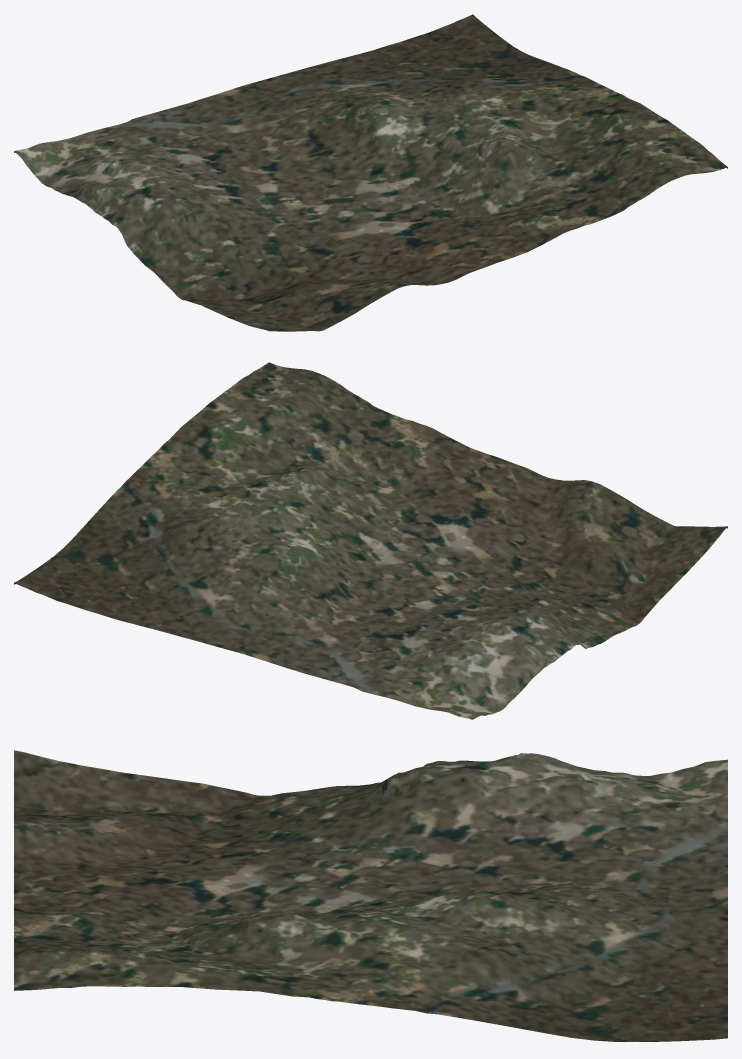
The picture shows the model from 3 angles, top to bottom: view 1: azimuth 30°, elevation 25°; view 2: azimuth 150°, elevation 25°; view 3: azimuth 270°, elevation 25°; orthographic projection. The views are drawn at different scales.
Bounding box in the file's own units: 250 × 47.09 × 241.
1 material, 1 textured.
